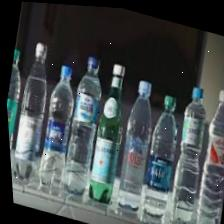plastic: (101, 68, 171, 222), (76, 55, 144, 213), (157, 76, 222, 224), (2, 38, 62, 194), (26, 56, 89, 199), (53, 50, 113, 198), (129, 82, 190, 224), (177, 73, 224, 224), (2, 44, 35, 190)
